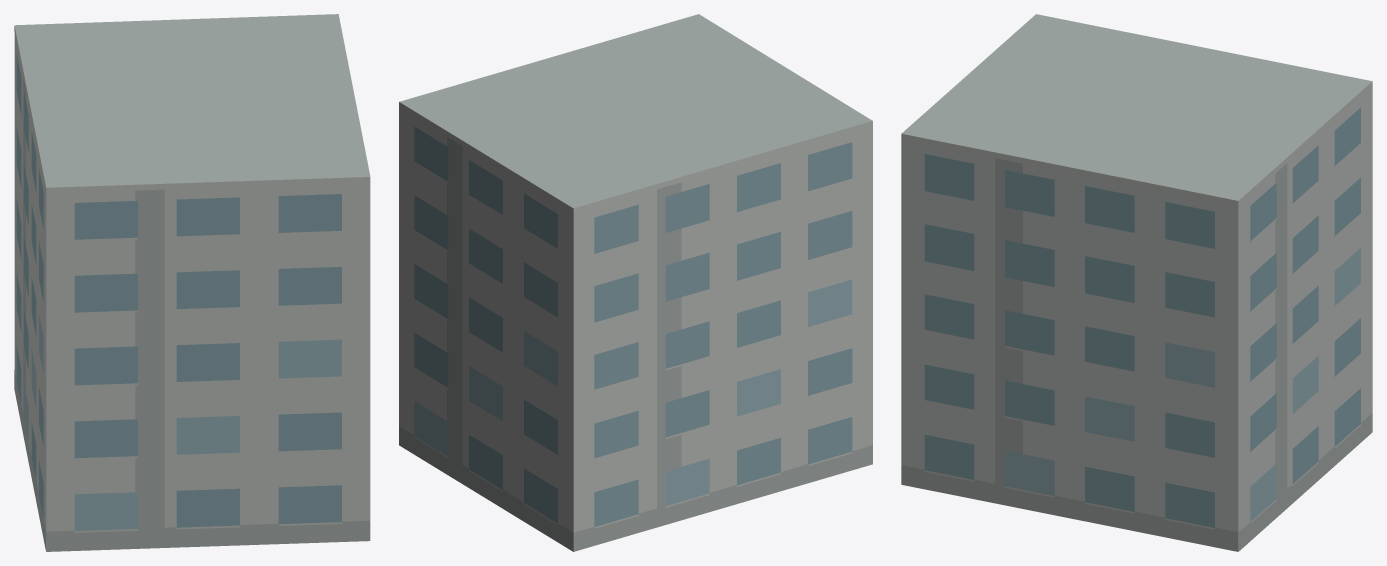
The model's file is survey-upis-32553347.glb.
3 renders of one model, left to right at view 1: azimuth 30°, elevation 25°; view 2: azimuth 150°, elevation 25°; view 3: azimuth 270°, elevation 25°, orthographic. The views are drawn at different scales.
Parts seen in each view (by area): view 1: survey-upis-32553347.tmp; view 2: survey-upis-32553347.tmp; view 3: survey-upis-32553347.tmp.
Part boxes in pixels (box(x1,y1,x2,y2)): survey-upis-32553347.tmp: box(14, 14, 370, 551); survey-upis-32553347.tmp: box(399, 14, 872, 551); survey-upis-32553347.tmp: box(901, 14, 1372, 551).
Size of the model in its own units: 17.43 by 15.25 by 18.57.
